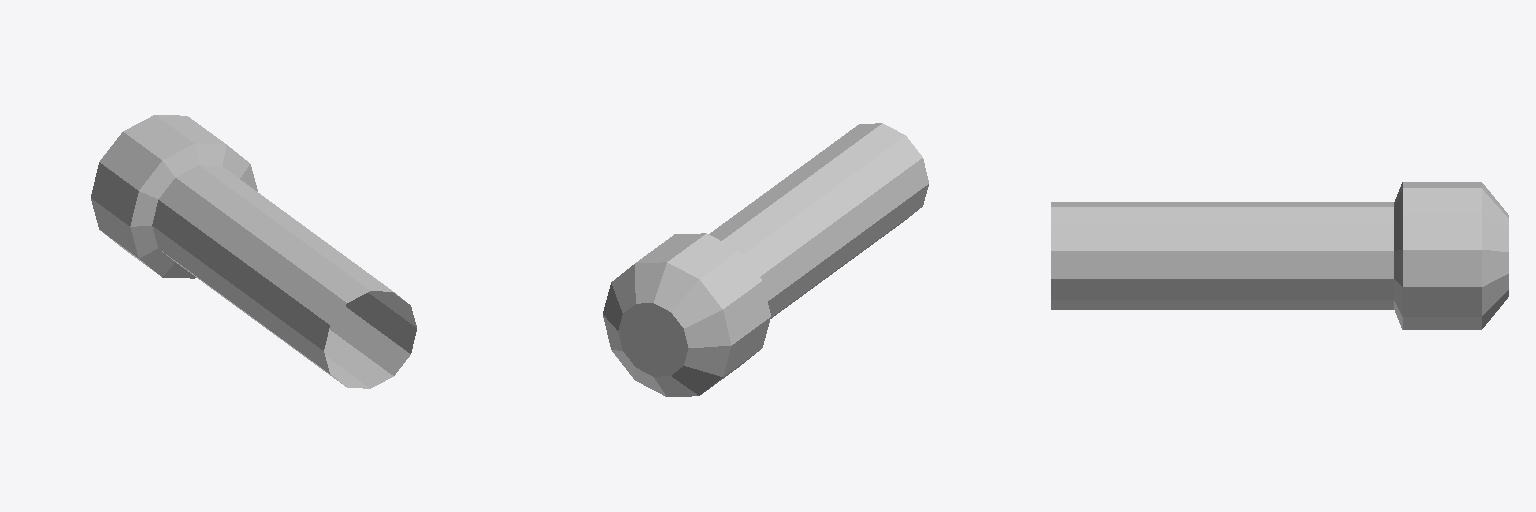
The model's file is Puncher.obj.
The picture shows the model from 3 angles: view 1: azimuth 30°, elevation 25°; view 2: azimuth 150°, elevation 25°; view 3: azimuth 270°, elevation 25°; orthographic projection.
Visible parts, largest first — view 1: PuncherStick_Untitled.025; view 2: PuncherStick_Untitled.025; view 3: PuncherStick_Untitled.025.
Part boxes in pixels (x1,y1,x2,y2): PuncherStick_Untitled.025: (91, 115, 416, 388); PuncherStick_Untitled.025: (603, 123, 928, 396); PuncherStick_Untitled.025: (1051, 182, 1508, 329).
Size of the model in its own units: 0.0273 by 0.0273 by 0.084.